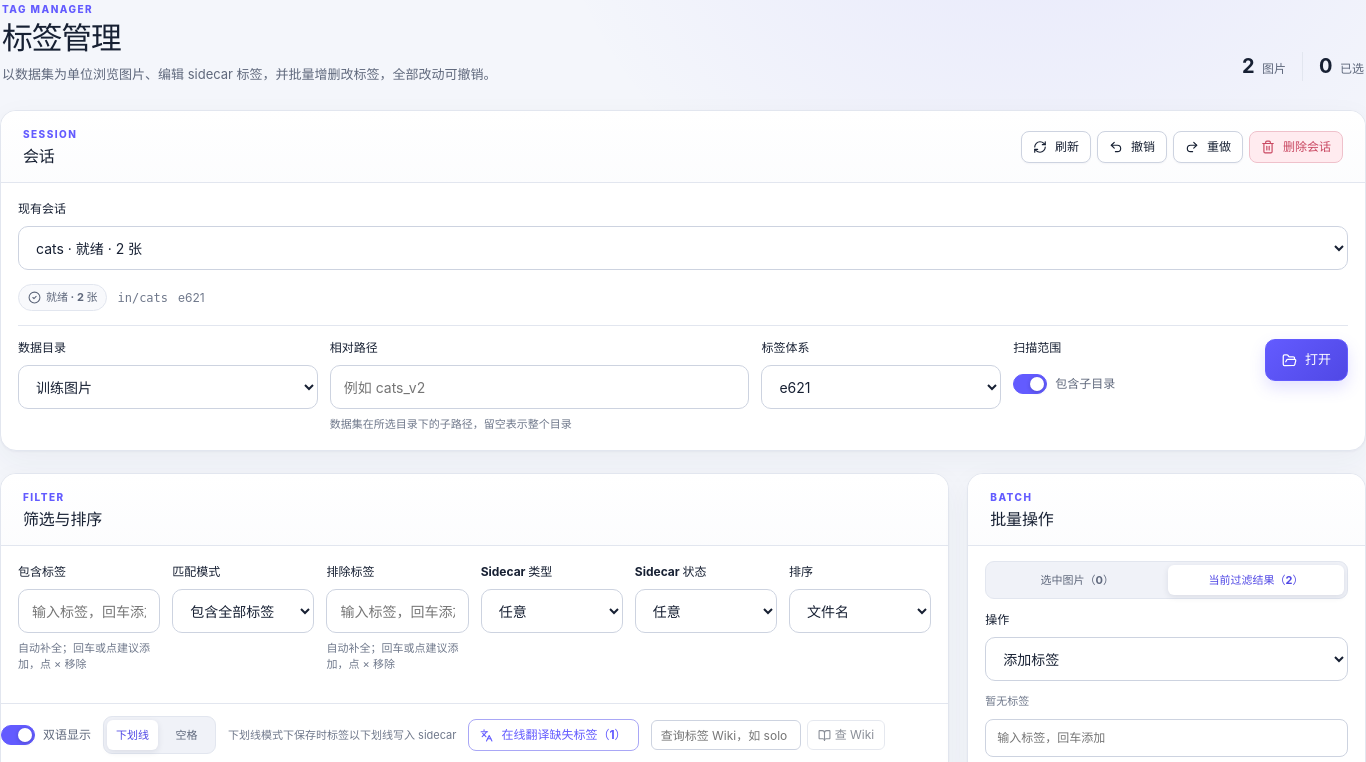
Test: on-demand tag translation › translates the page-missing tags from the display bar and shows them at once
Click the button "在线翻译缺失标签（1）". click: click(554, 735)
box: [468, 719, 639, 751]
(page scrolled)
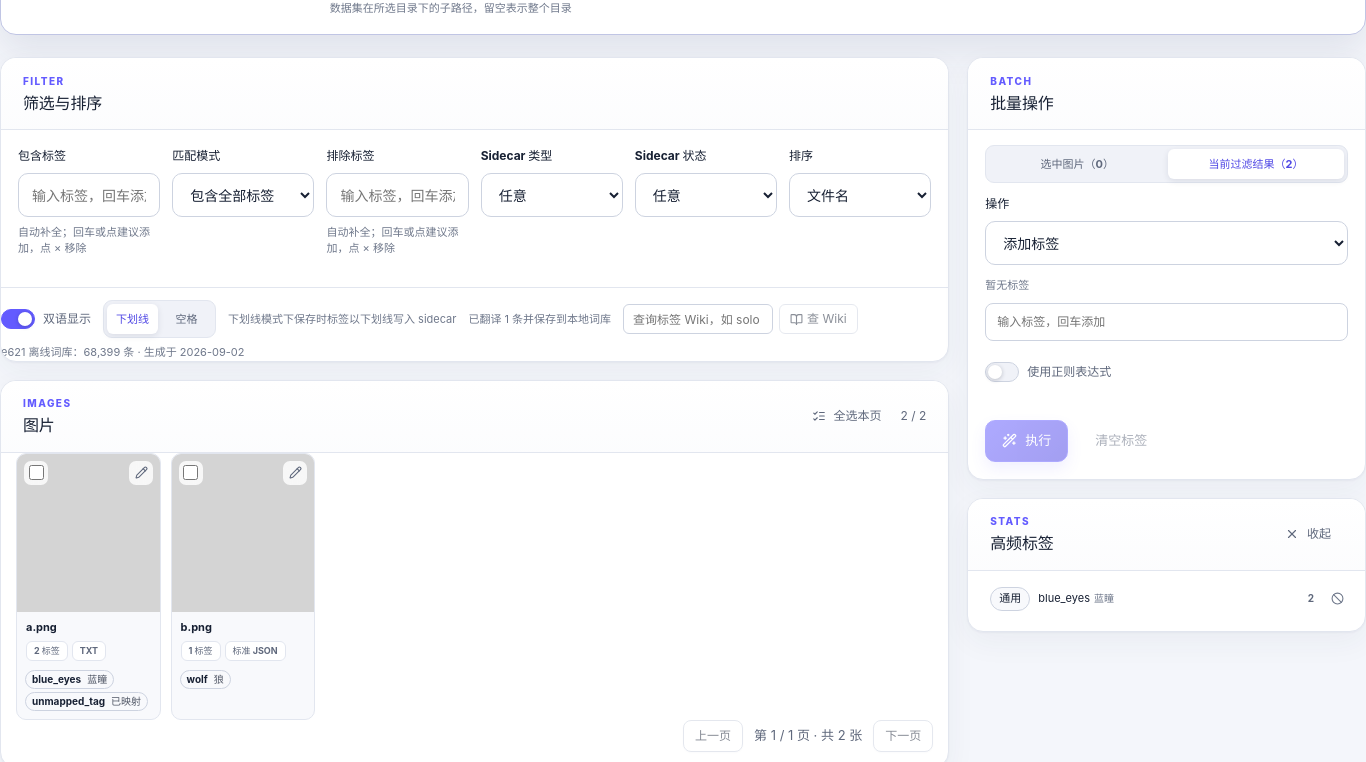
Expected: the element titled "unmapped_tag · 已映射" is shown, [25, 692, 148, 710]
Expected: the button "在线翻译缺失标签" is gone
